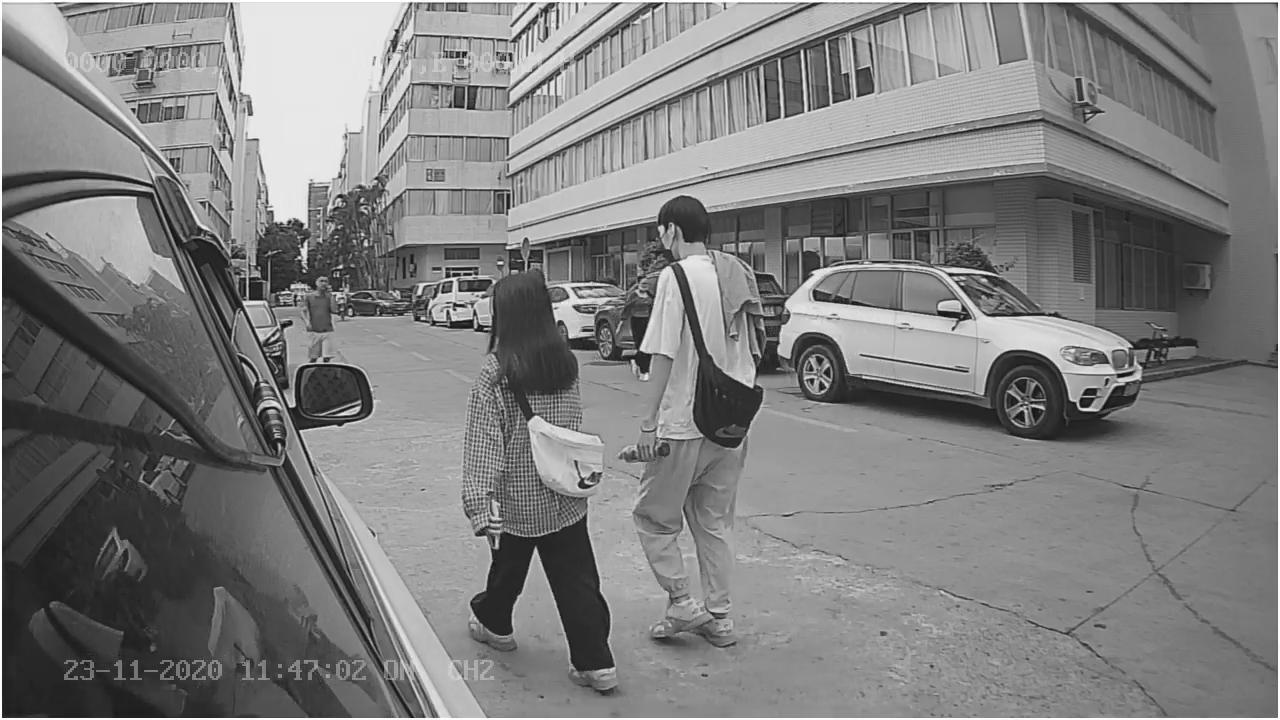person: (456, 253, 619, 690), (635, 181, 779, 654)
